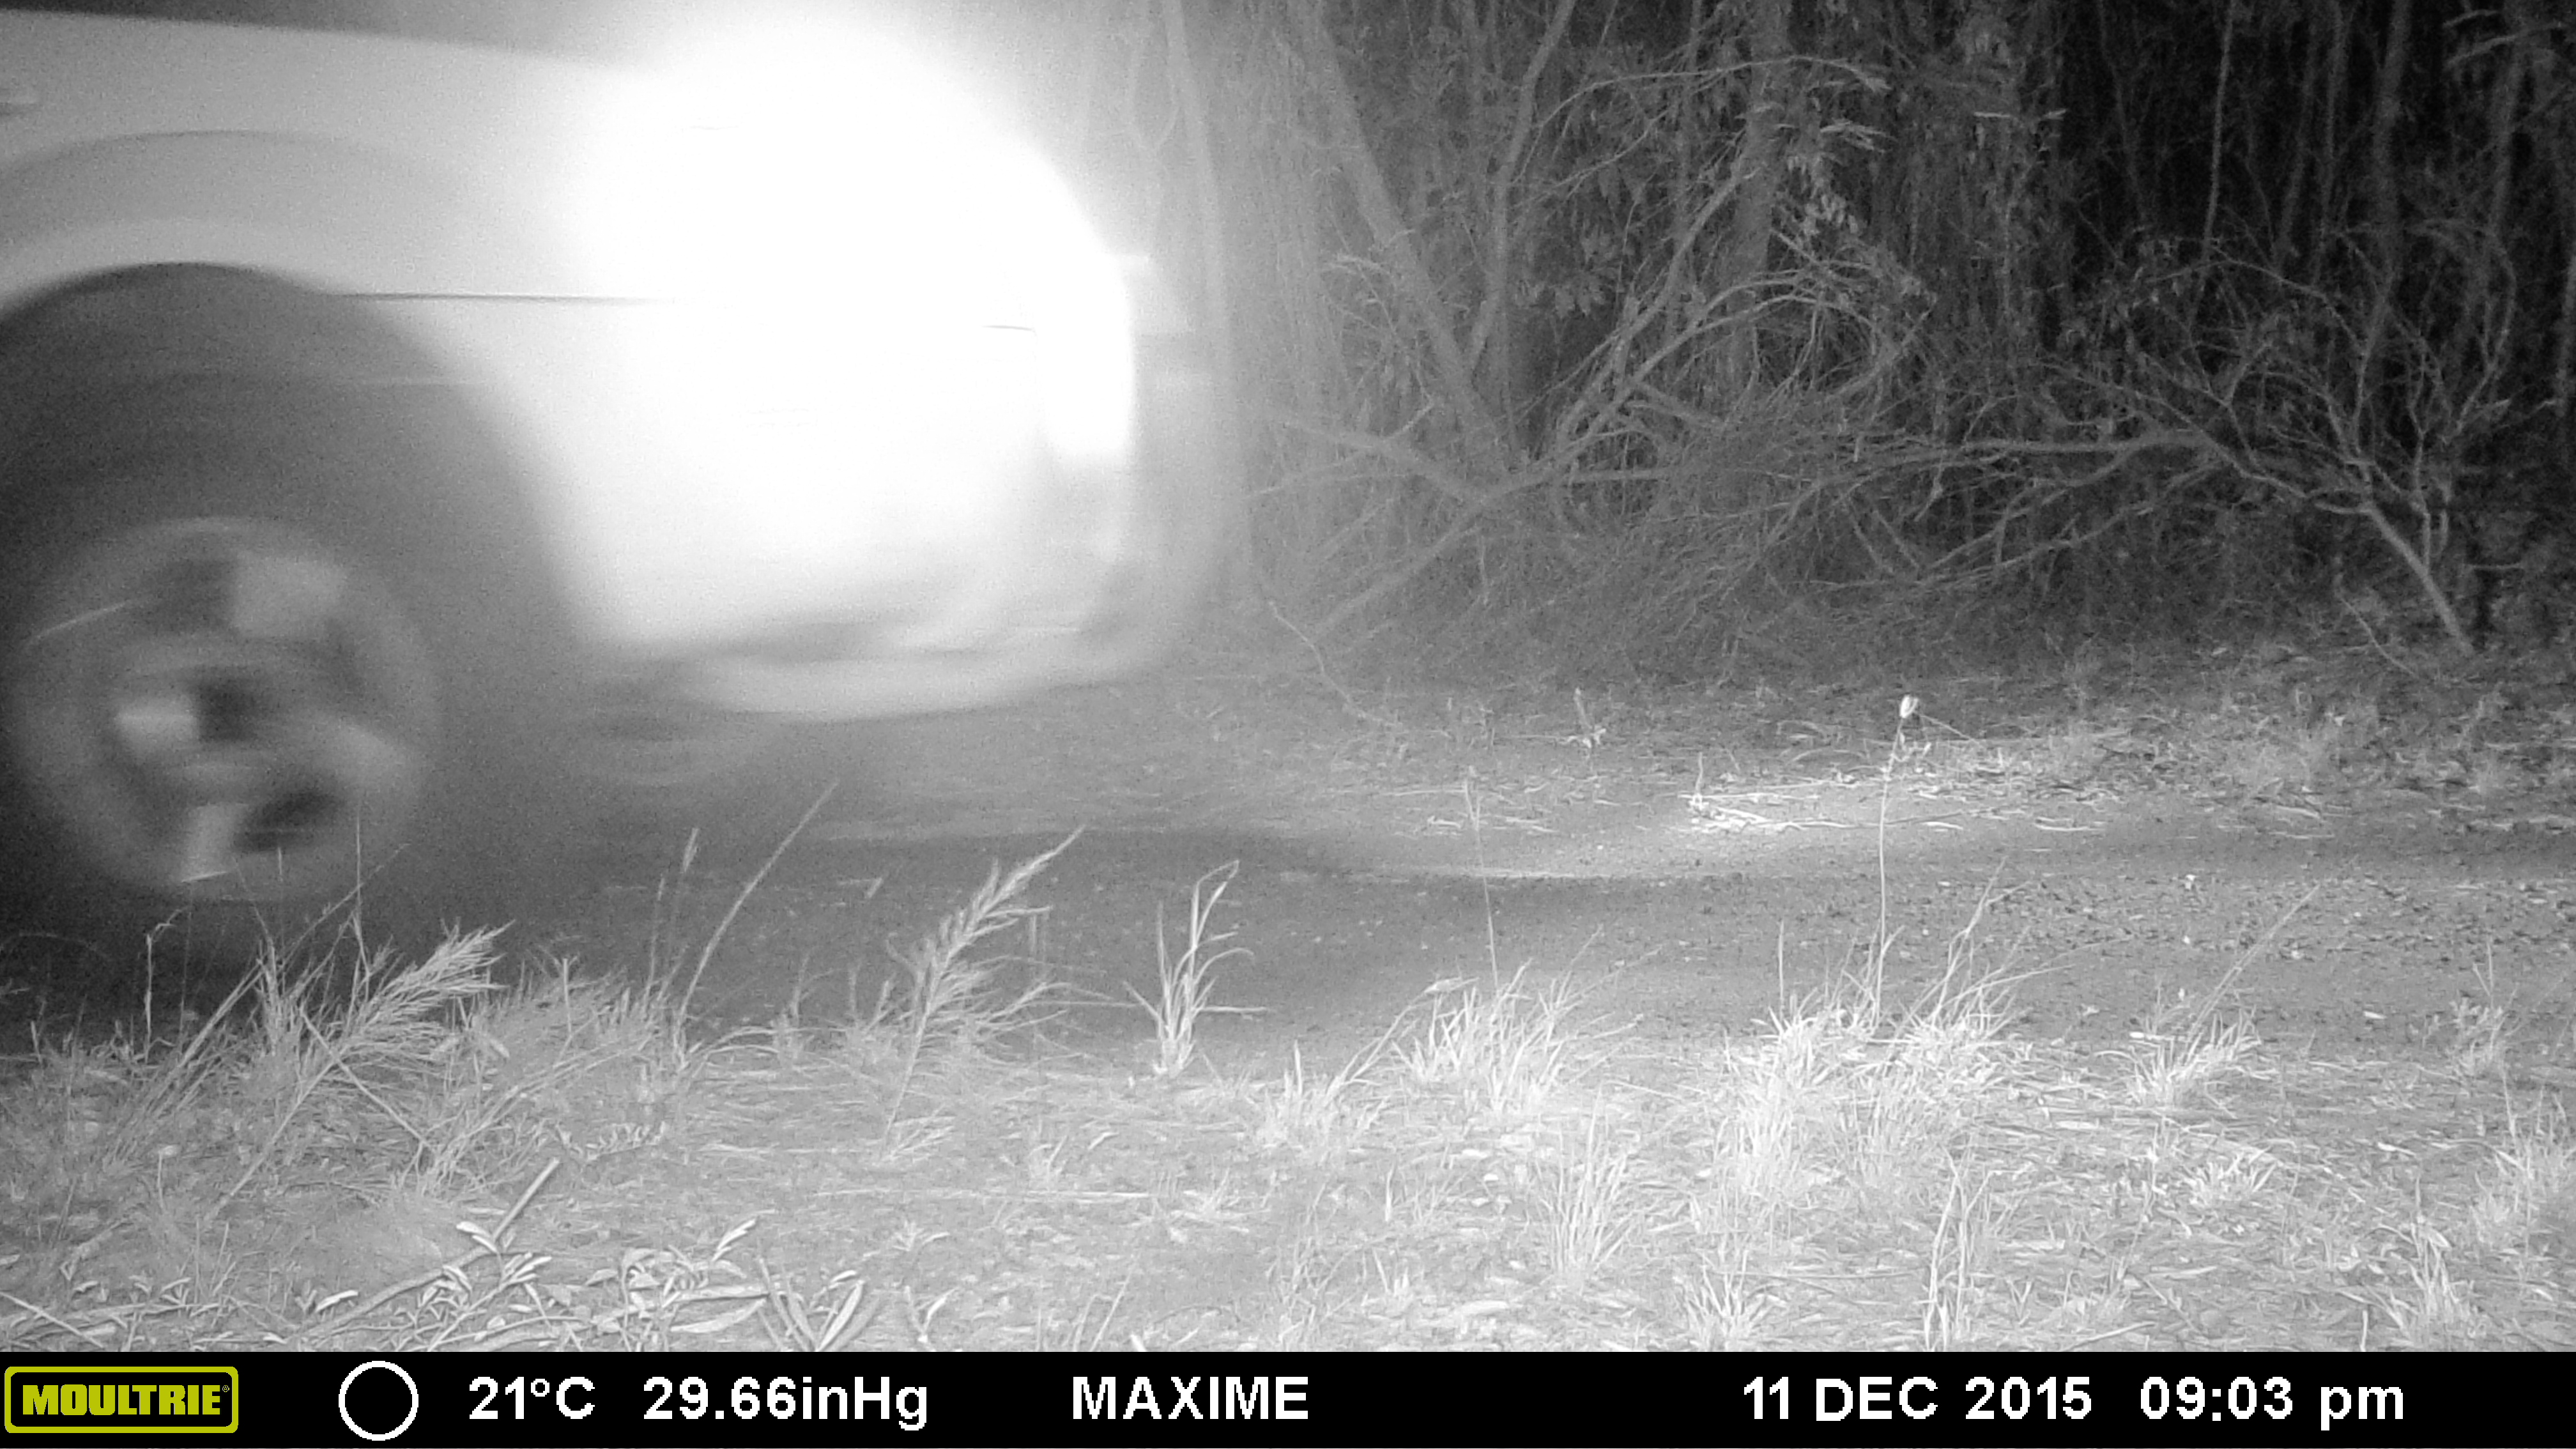Car: (4, 5, 1226, 971)
